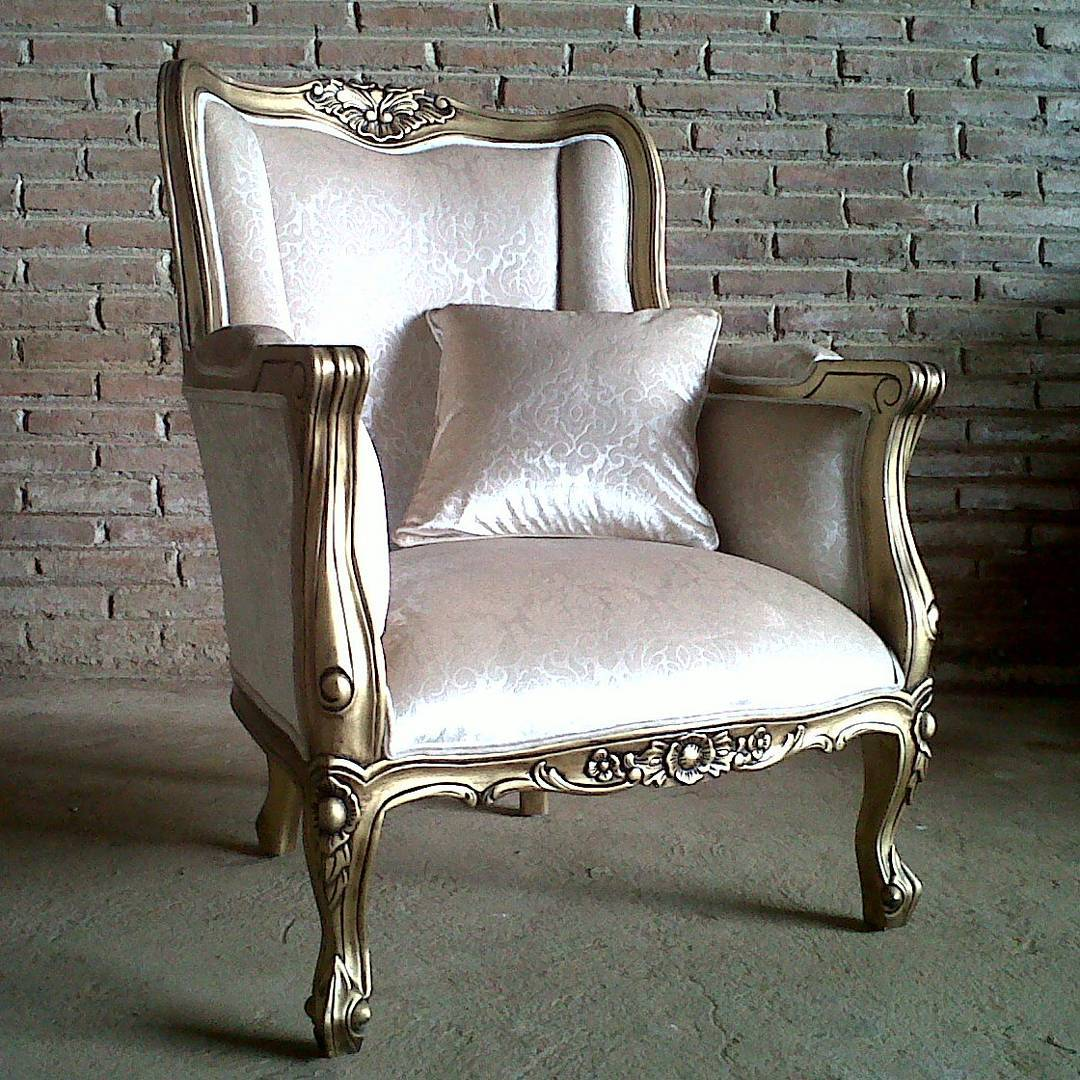Carving Chair: (154, 45, 959, 1015)
